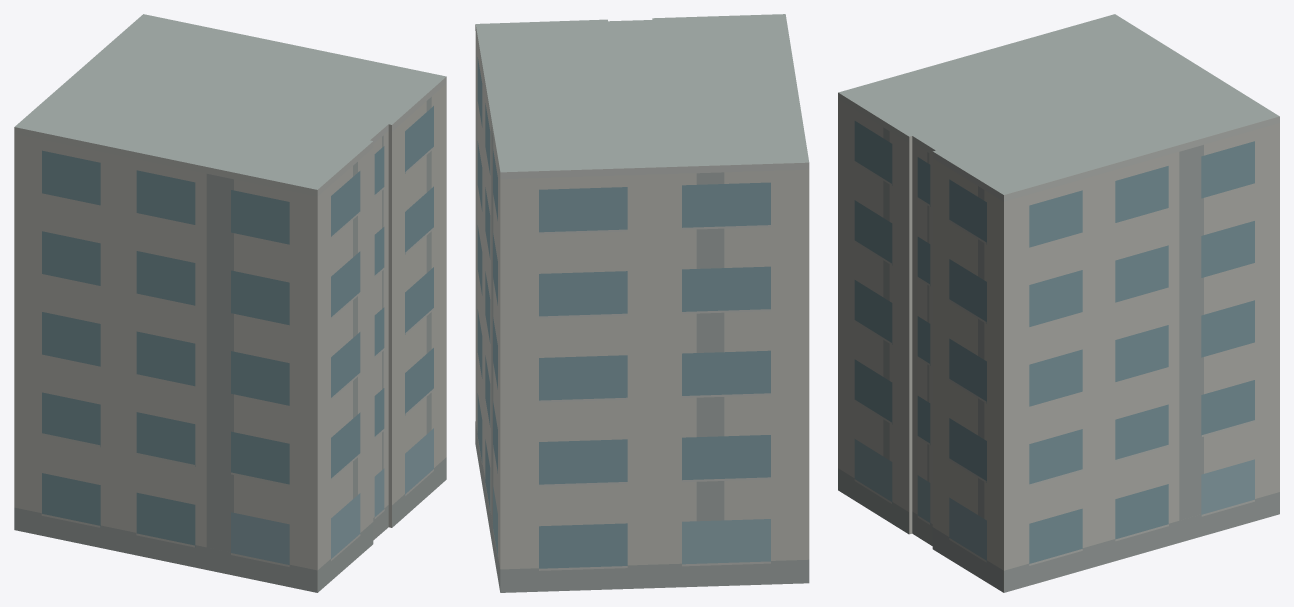
The model's file is survey-upis-32886703.glb.
3 renders of one model, left to right at view 1: azimuth 30°, elevation 25°; view 2: azimuth 150°, elevation 25°; view 3: azimuth 270°, elevation 25°, orthographic. The views are drawn at different scales.
Visible parts, largest first — view 1: survey-upis-32886703.tmp; view 2: survey-upis-32886703.tmp; view 3: survey-upis-32886703.tmp.
Part boxes in pixels (bbox=[...]): survey-upis-32886703.tmp: bbox=[14, 14, 446, 592]; survey-upis-32886703.tmp: bbox=[475, 14, 809, 592]; survey-upis-32886703.tmp: bbox=[838, 14, 1279, 592].
Bounding box in the file's own units: 14.17 × 14.5 × 14.6.
